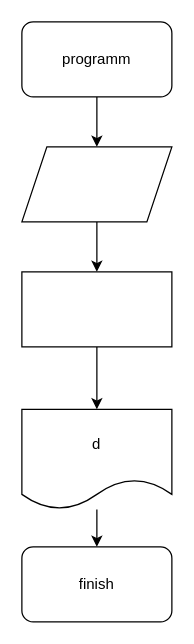
Some shapes in this 194 by 644 pixel diagram are drawn without their labels. Each missing label, with the box of its shape:
a=1357 b c d: (21, 146, 172, 222)
b=a+70000 c=b*10 d=c+8: (21, 271, 172, 347)
